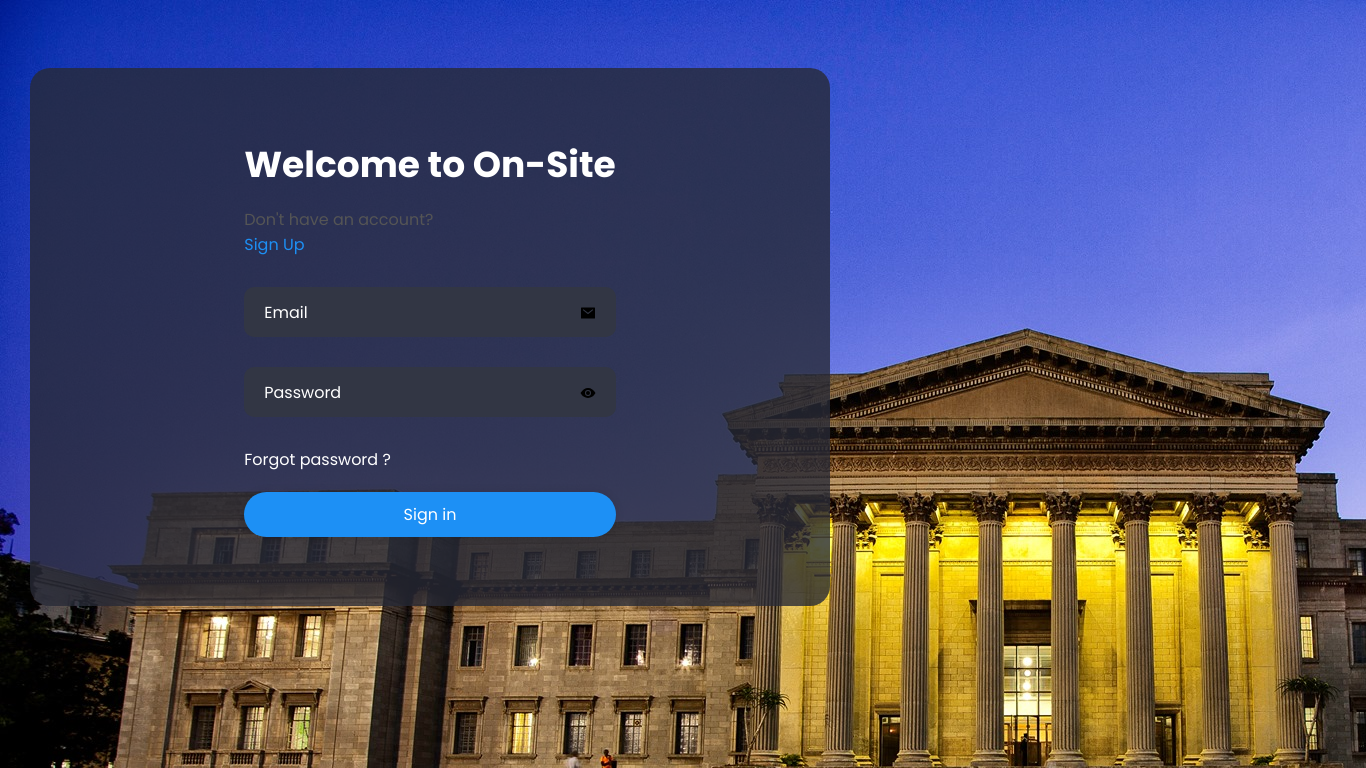
Test case: LoginForm Component › shows forgot password form when "Forgot password?" link is clicked
Click the link "Forgot password ?" at [318, 460], box x1=244 y1=448 x2=391 y2=471
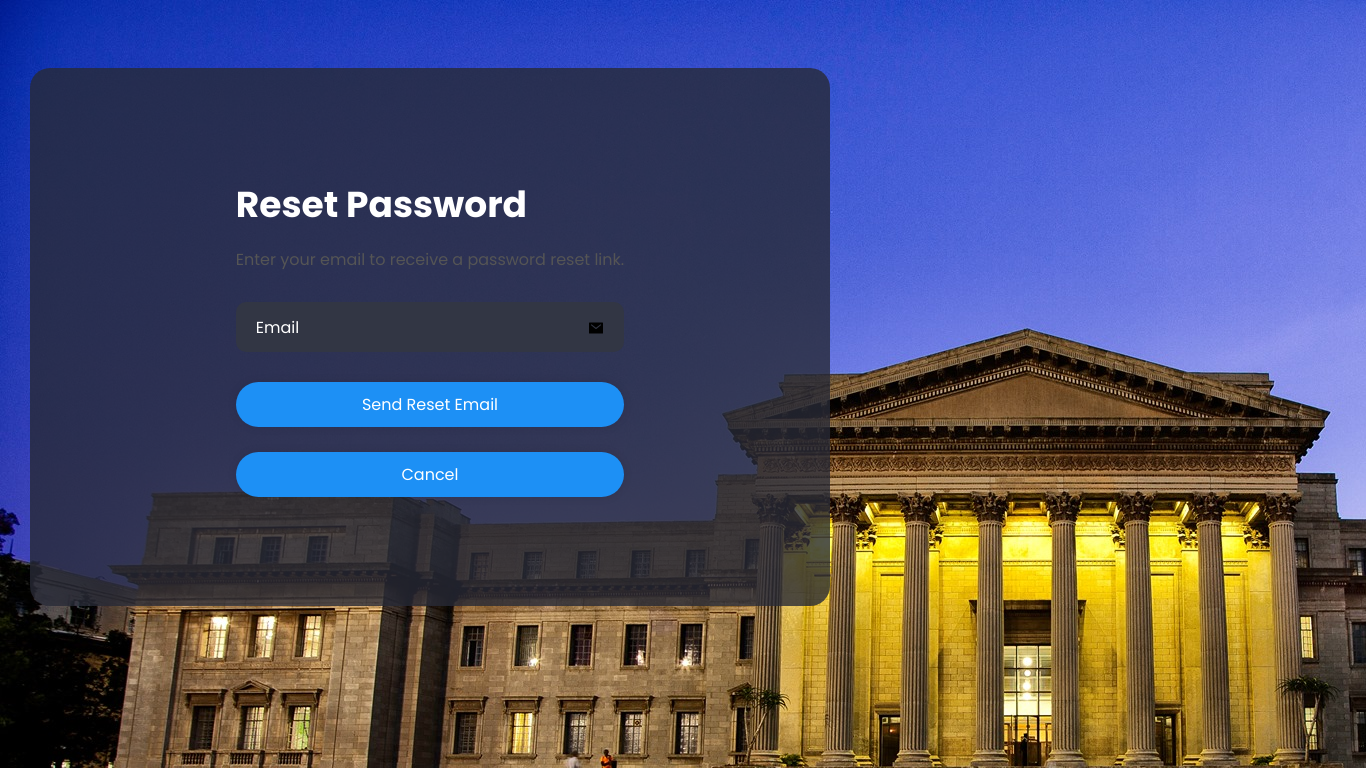
Expected: the button "Send Reset Email" is shown, x1=236 y1=382 x2=624 y2=427
